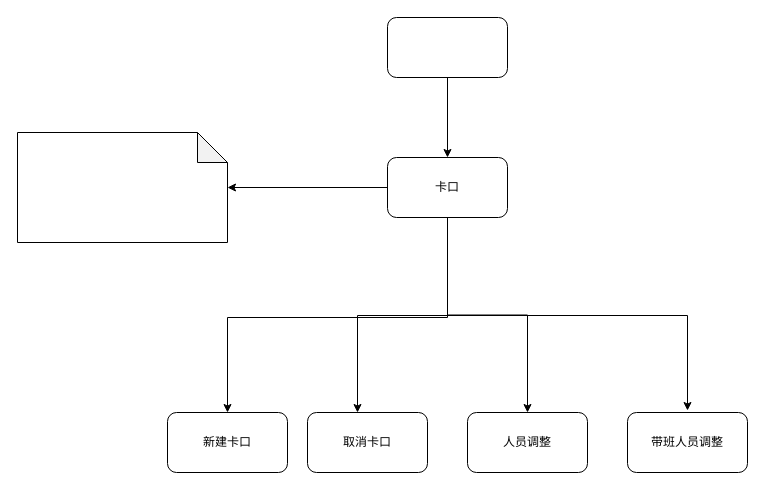
Some shapes in this 765 by 490 pixel diagram are drawn without their labels. The shapes that lost their labels are listed below. From the top down, each one's centre as x and y in pixels, then its label:
At point 447,47: "登录App".
At point 122,187: "卡口类型：固定、流动 有效时间：起始时间 带班人员：xxx 位置：经纬度 地址：xxx 车辆：xxxx".
